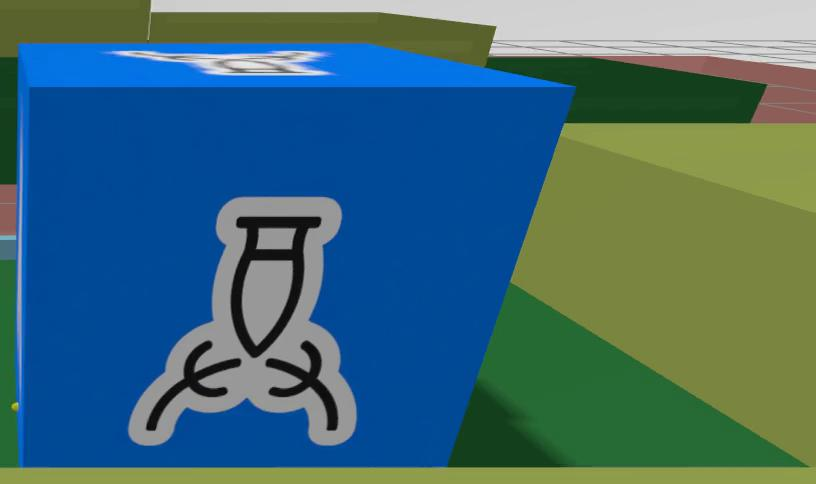KFS_REAL: (13, 41, 573, 465), (128, 197, 356, 446), (109, 51, 329, 75)
